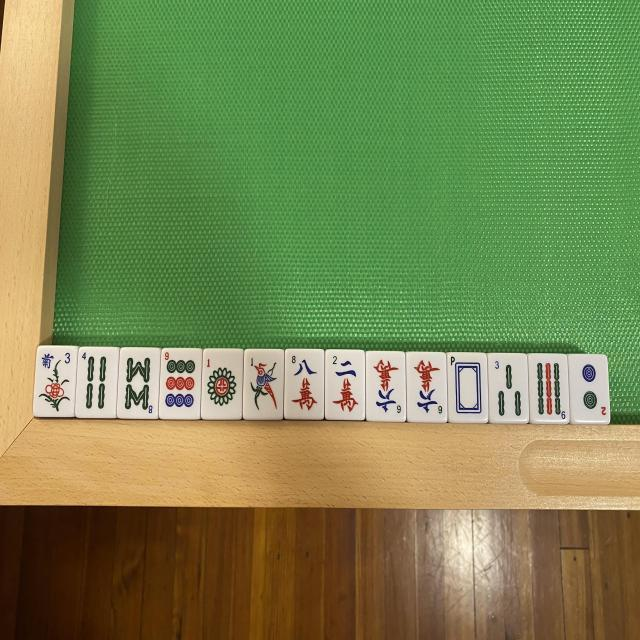bf3: (36, 348, 76, 416)
hdw: (449, 354, 487, 422)
sb1: (246, 353, 285, 419)
sb3: (490, 356, 528, 424)
sb4: (78, 348, 116, 418)
sb8: (121, 352, 160, 420)
sb9: (533, 353, 571, 421)
sc2: (328, 351, 367, 420)
sc6: (408, 353, 448, 422), (366, 350, 404, 420)
sc8: (286, 350, 326, 420)
sd1: (202, 352, 242, 420)
sd2: (572, 356, 610, 423)
sd9: (164, 350, 203, 419)
